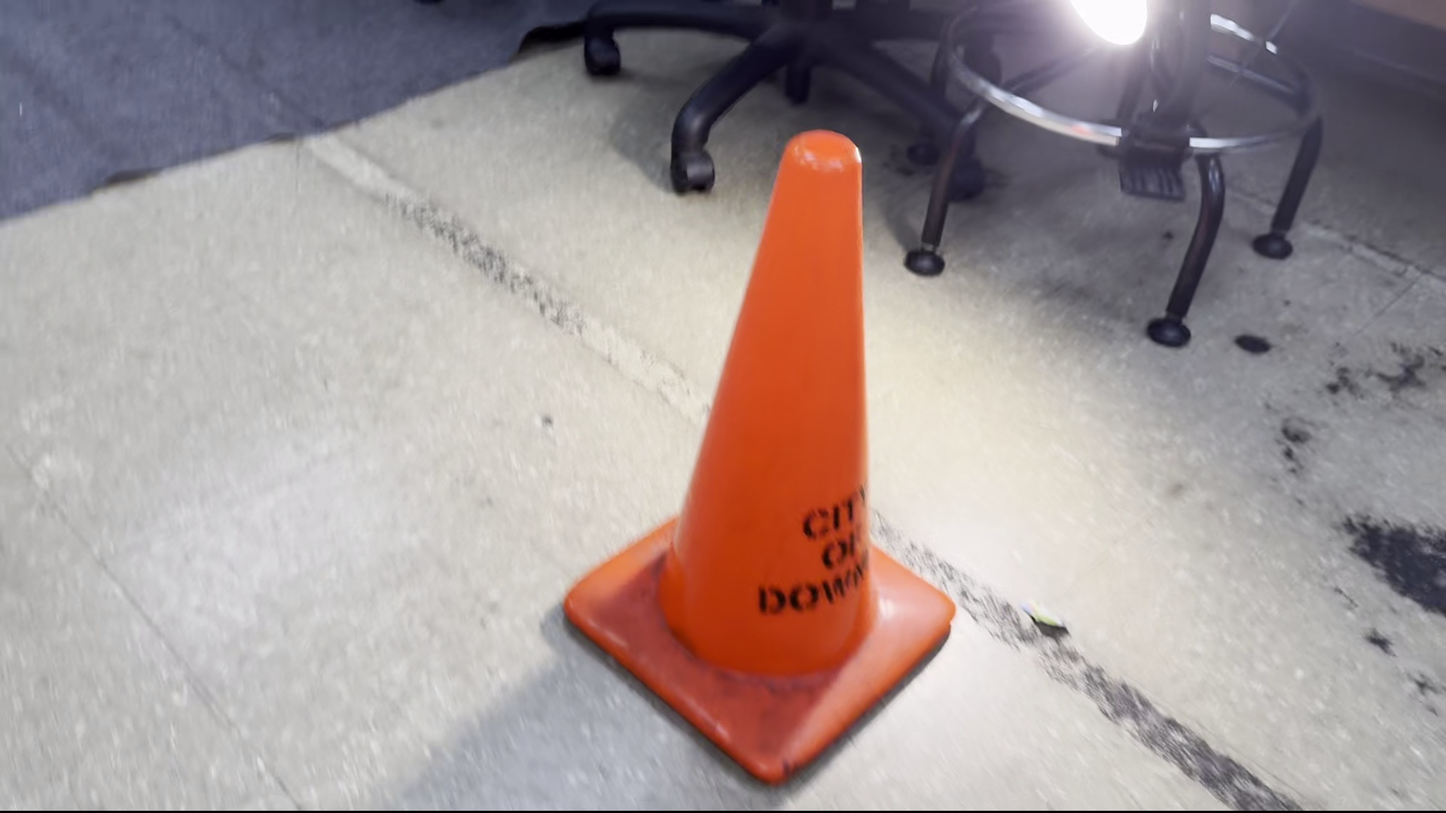traffic_cone: (562, 128, 957, 786)
